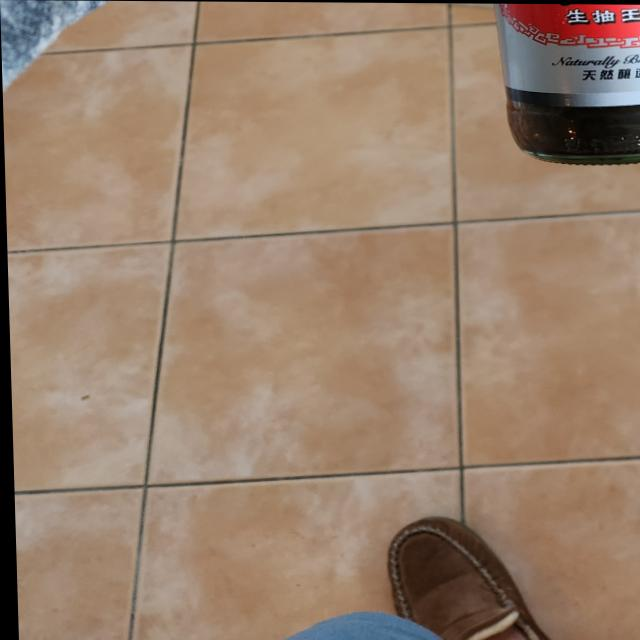soy sauce: (478, 3, 640, 163)
